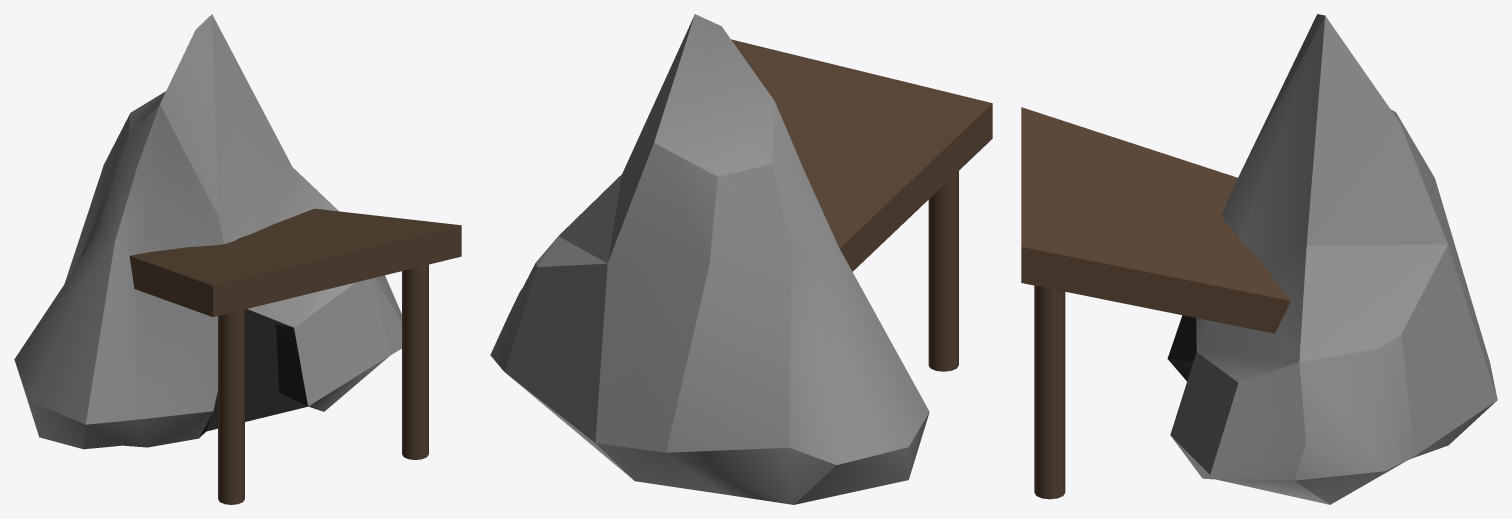
File: mine.gltf
3 renders of one model, left to right at view 1: azimuth 30°, elevation 25°; view 2: azimuth 150°, elevation 25°; view 3: azimuth 270°, elevation 25°, orthographic. The views are drawn at different scales.
Visible parts, largest first — view 1: IceChunk01; view 2: IceChunk01; view 3: IceChunk01.
Boxes of the visible parts, <box> form: IceChunk01: <box>14,14,461,504</box>; IceChunk01: <box>490,14,992,504</box>; IceChunk01: <box>1021,14,1497,504</box>.
Bounding box in the file's own units: 0.991 × 0.9984 × 1.
Materials: 1 (1 with a texture image).
